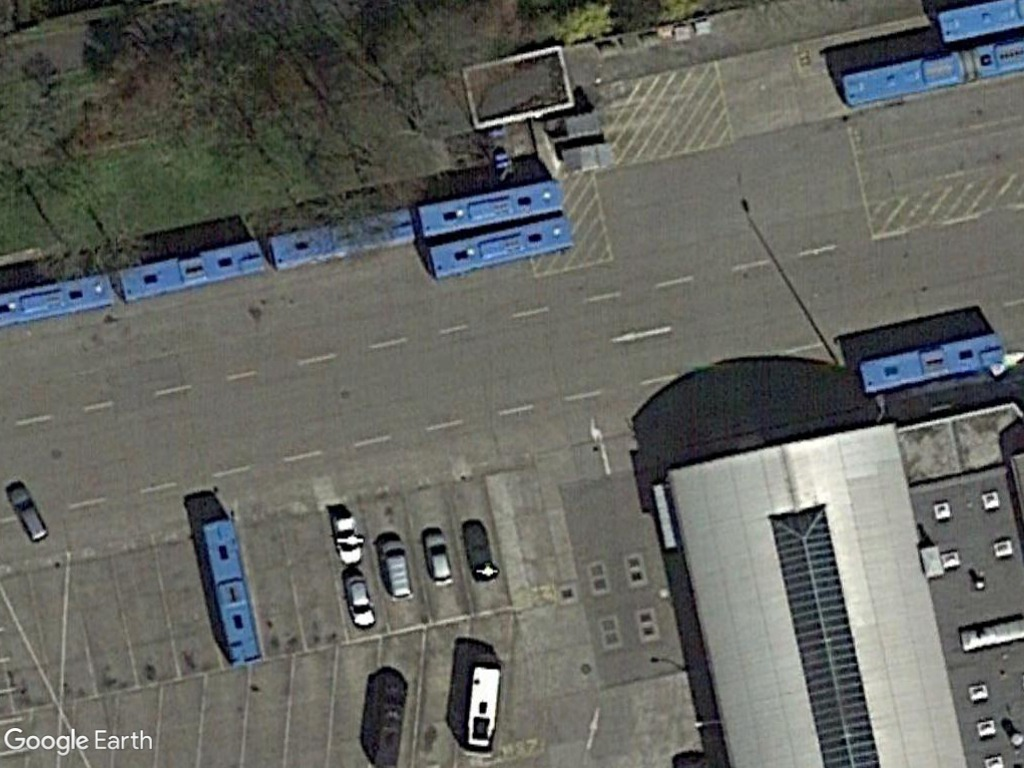bus: (264, 201, 418, 274), (110, 234, 266, 304), (413, 174, 570, 242), (852, 332, 1008, 400), (197, 514, 265, 668), (420, 214, 574, 280), (836, 45, 977, 116)
car: (4, 481, 54, 547), (418, 527, 457, 588), (341, 568, 378, 630)
van: (378, 535, 415, 603)
